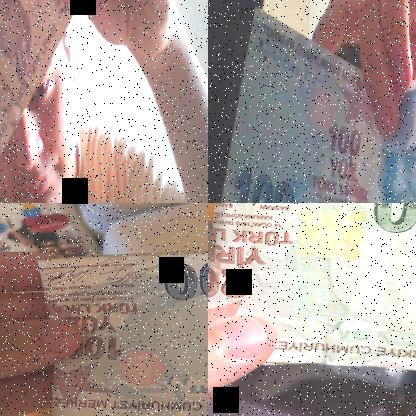5 TL: (0, 0, 82, 202)
